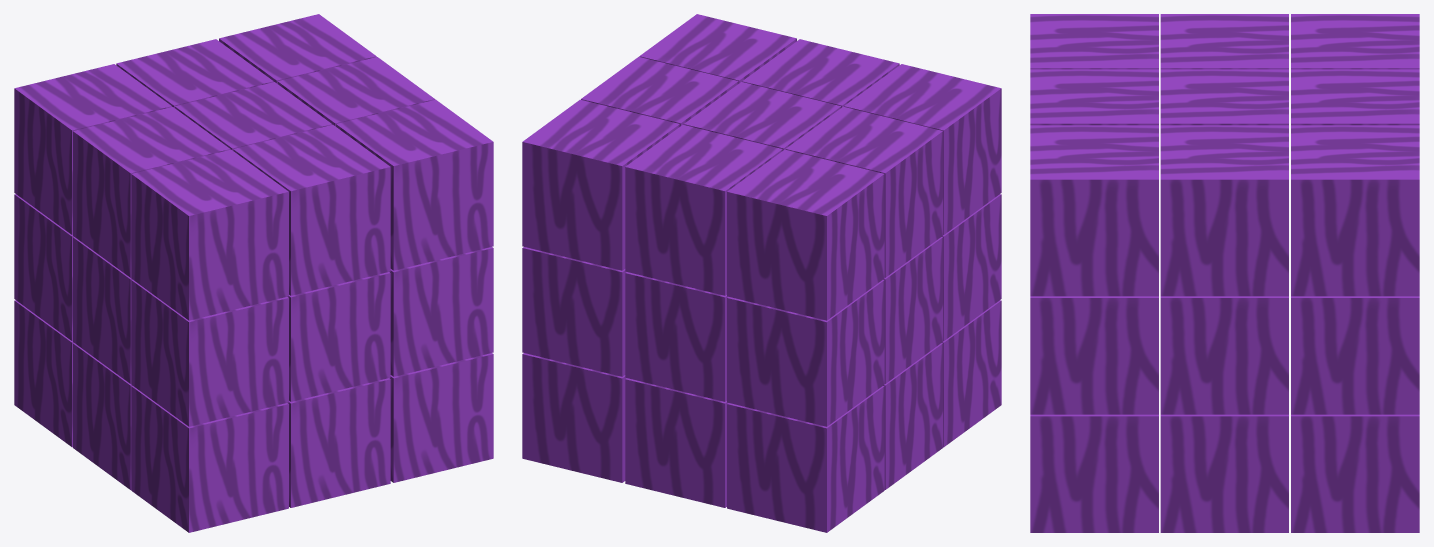
The model's file is Level2-2-TopPart.fbx.
The picture shows the model from 3 angles, left to right: view 1: azimuth 30°, elevation 25°; view 2: azimuth 150°, elevation 25°; view 3: azimuth 270°, elevation 25°; orthographic projection. The views are drawn at different scales.
Parts seen in each view (by area): view 1: Cube.021, Cube.003, Cube.012, Cube.020, Cube.019, Cube.027, Cube.024, Cube.002, Cube.011, Cube.010, Cube.001, Cube.009 (+7 smaller); view 2: Cube.027, Cube.009, Cube.018, Cube.026, Cube.025, Cube.024, Cube.021, Cube.008, Cube.017, Cube.016, Cube.007, Cube.015 (+7 smaller); view 3: Cube.020, Cube.026, Cube.023, Cube.002, Cube.008, Cube.011, Cube.014, Cube.017, Cube.005, Cube.019, Cube.025, Cube.022 (+3 smaller).
Part boxes in pixels (bbox=[...]): Cube.021: bbox=[131, 149, 288, 320]; Cube.003: bbox=[131, 386, 288, 532]; Cube.012: bbox=[131, 279, 288, 426]; Cube.020: bbox=[336, 99, 493, 270]; Cube.019: bbox=[233, 125, 390, 295]; Cube.027: bbox=[14, 64, 171, 234]; Cube.024: bbox=[73, 107, 230, 277]; Cube.002: bbox=[389, 353, 493, 482]; Cube.011: bbox=[389, 247, 493, 376]; Cube.010: bbox=[287, 272, 390, 401]; Cube.001: bbox=[288, 378, 390, 507]; Cube.009: bbox=[14, 300, 73, 447]; Cube.027: bbox=[727, 149, 884, 320]; Cube.009: bbox=[727, 386, 884, 532]; Cube.018: bbox=[727, 279, 884, 426]; Cube.026: bbox=[522, 99, 679, 270]; Cube.025: bbox=[625, 125, 782, 295]; Cube.024: bbox=[785, 106, 943, 277]; Cube.021: bbox=[844, 64, 1001, 234]; Cube.008: bbox=[522, 353, 626, 482]; Cube.017: bbox=[522, 247, 626, 376]; Cube.016: bbox=[625, 272, 728, 401]; Cube.007: bbox=[625, 378, 727, 507]; Cube.015: bbox=[883, 237, 943, 383]; Cube.020: bbox=[1030, 125, 1158, 296]; Cube.026: bbox=[1291, 125, 1419, 296]; Cube.023: bbox=[1160, 125, 1288, 296]; Cube.002: bbox=[1030, 414, 1158, 532]; Cube.008: bbox=[1291, 414, 1419, 532]; Cube.011: bbox=[1030, 296, 1158, 414]; Cube.014: bbox=[1160, 296, 1288, 414]; Cube.017: bbox=[1291, 296, 1419, 414]; Cube.005: bbox=[1160, 414, 1288, 532]; Cube.019: bbox=[1030, 69, 1158, 125]; Cube.025: bbox=[1291, 69, 1419, 125]; Cube.022: bbox=[1160, 69, 1288, 125].
Size of the model in its own units: 610 by 606 by 606.
